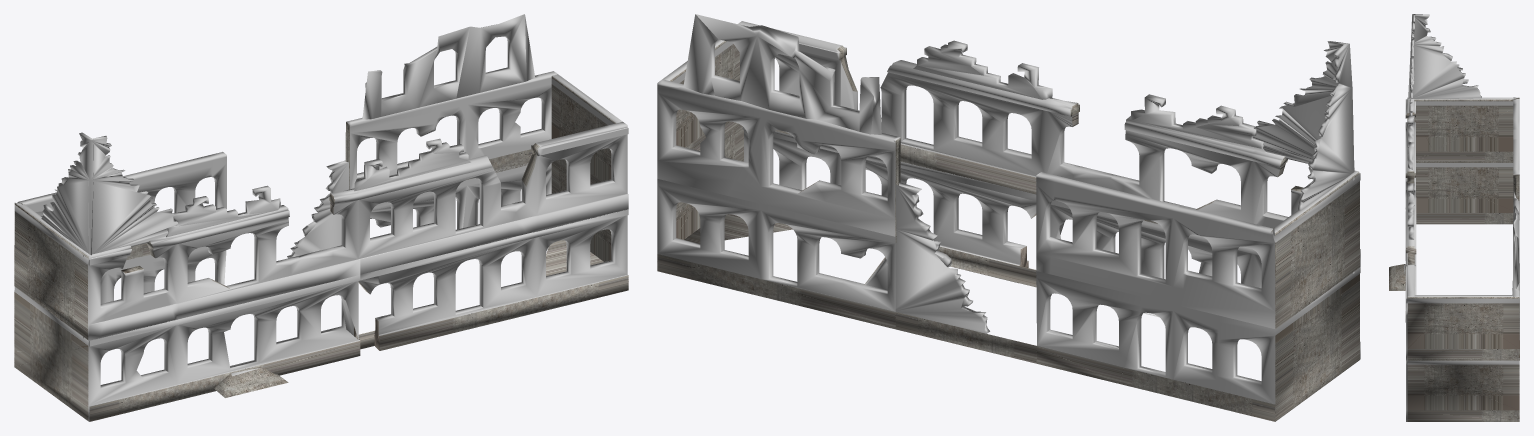
Rendered from long house yellow_LOD1.fbx.
3 renders of one model, left to right at view 1: azimuth 30°, elevation 25°; view 2: azimuth 150°, elevation 25°; view 3: azimuth 270°, elevation 25°, orthographic. The views are drawn at different scales.
Visible parts, largest first — view 1: long_house_yellow_LOD1; view 2: long_house_yellow_LOD1; view 3: long_house_yellow_LOD1.
Boxes of the visible parts, box(x1,y1,x2,y2) form: long_house_yellow_LOD1: box(14, 14, 628, 421); long_house_yellow_LOD1: box(657, 14, 1360, 421); long_house_yellow_LOD1: box(1389, 14, 1519, 421).
Bounding box in the file's own units: 25.32 × 12.43 × 7.01.
